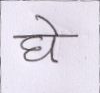e_matra: (35, 14, 61, 34)
